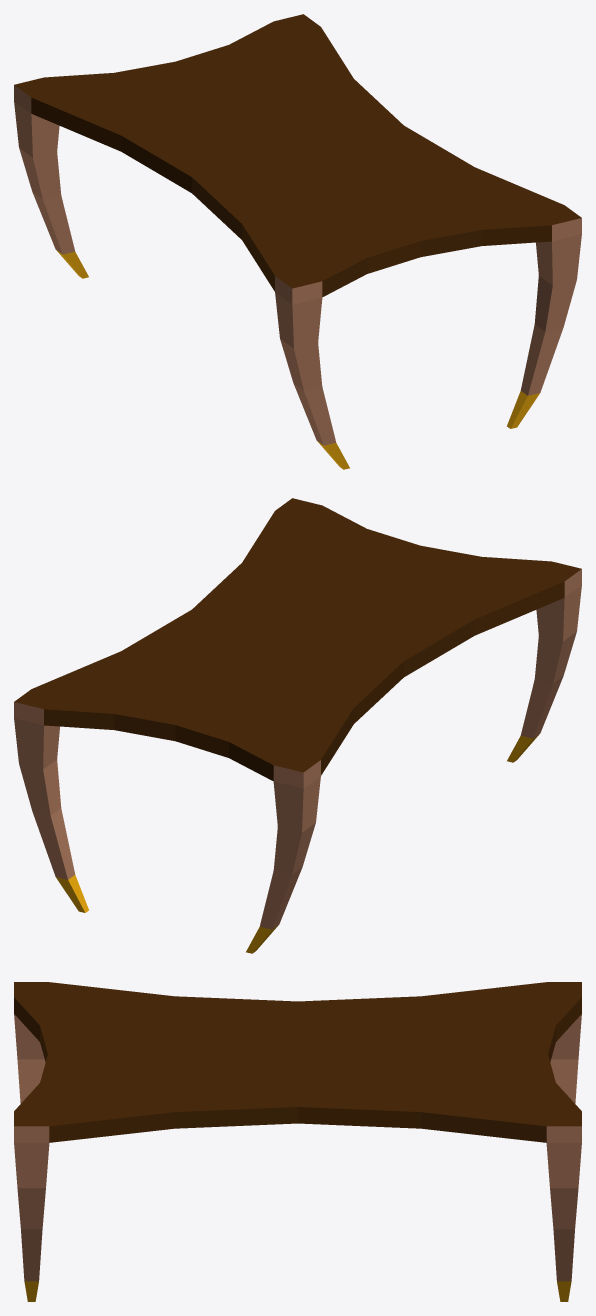
Rendered from Table_Dinning_Model.fbx.
3 views of the same model, one above another, from view 1: azimuth 30°, elevation 25°; view 2: azimuth 150°, elevation 25°; view 3: azimuth 270°, elevation 25° (orthographic). The views are drawn at different scales.
Visible parts, largest first — view 1: 23_Table_Dinning; view 2: 23_Table_Dinning; view 3: 23_Table_Dinning.
Part boxes in pixels (x1,y1,x2,y2): 23_Table_Dinning: (14, 14, 581, 469); 23_Table_Dinning: (14, 498, 581, 953); 23_Table_Dinning: (14, 982, 581, 1301).
Size of the model in its own units: 410 by 163 by 246.
